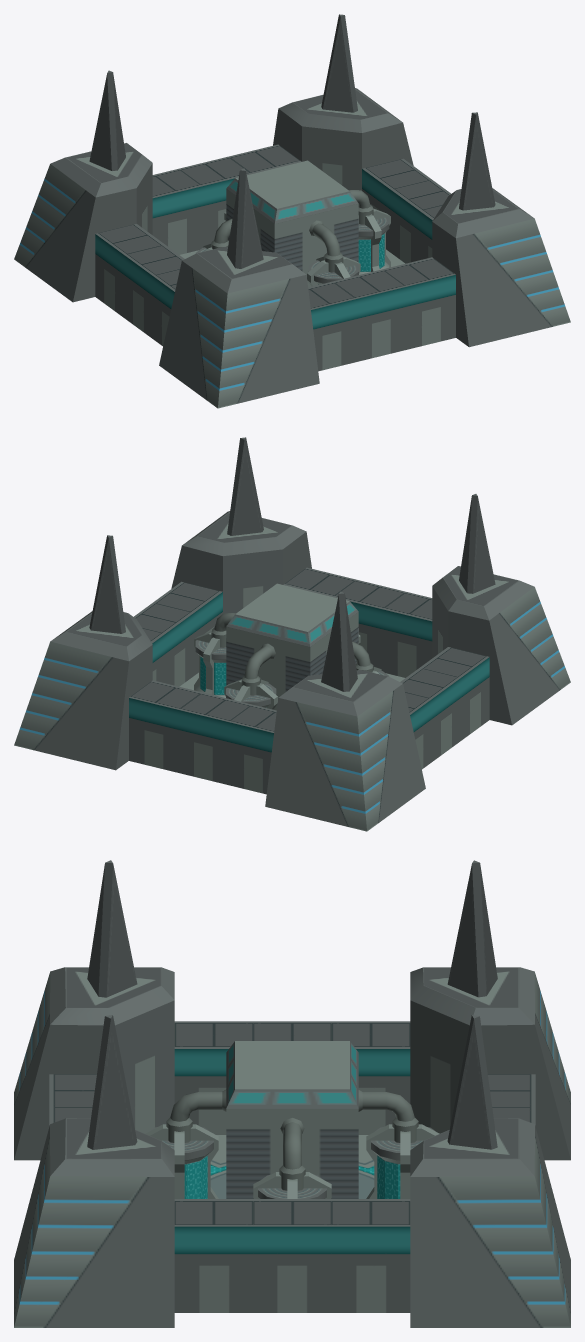
File: PowerSupply.fbx
The picture shows the model from 3 angles, top to bottom: view 1: azimuth 30°, elevation 25°; view 2: azimuth 150°, elevation 25°; view 3: azimuth 270°, elevation 25°; orthographic projection. The views are drawn at different scales.
Parts seen in each view (by area): view 1: PowerPlantMesh1; view 2: PowerPlantMesh1; view 3: PowerPlantMesh1.
Part boxes in pixels (bbox=[...]): PowerPlantMesh1: bbox=[14, 14, 570, 408]; PowerPlantMesh1: bbox=[14, 437, 570, 831]; PowerPlantMesh1: bbox=[14, 860, 570, 1327].
Size of the model in its own units: 17.67 by 9.49 by 17.67.
